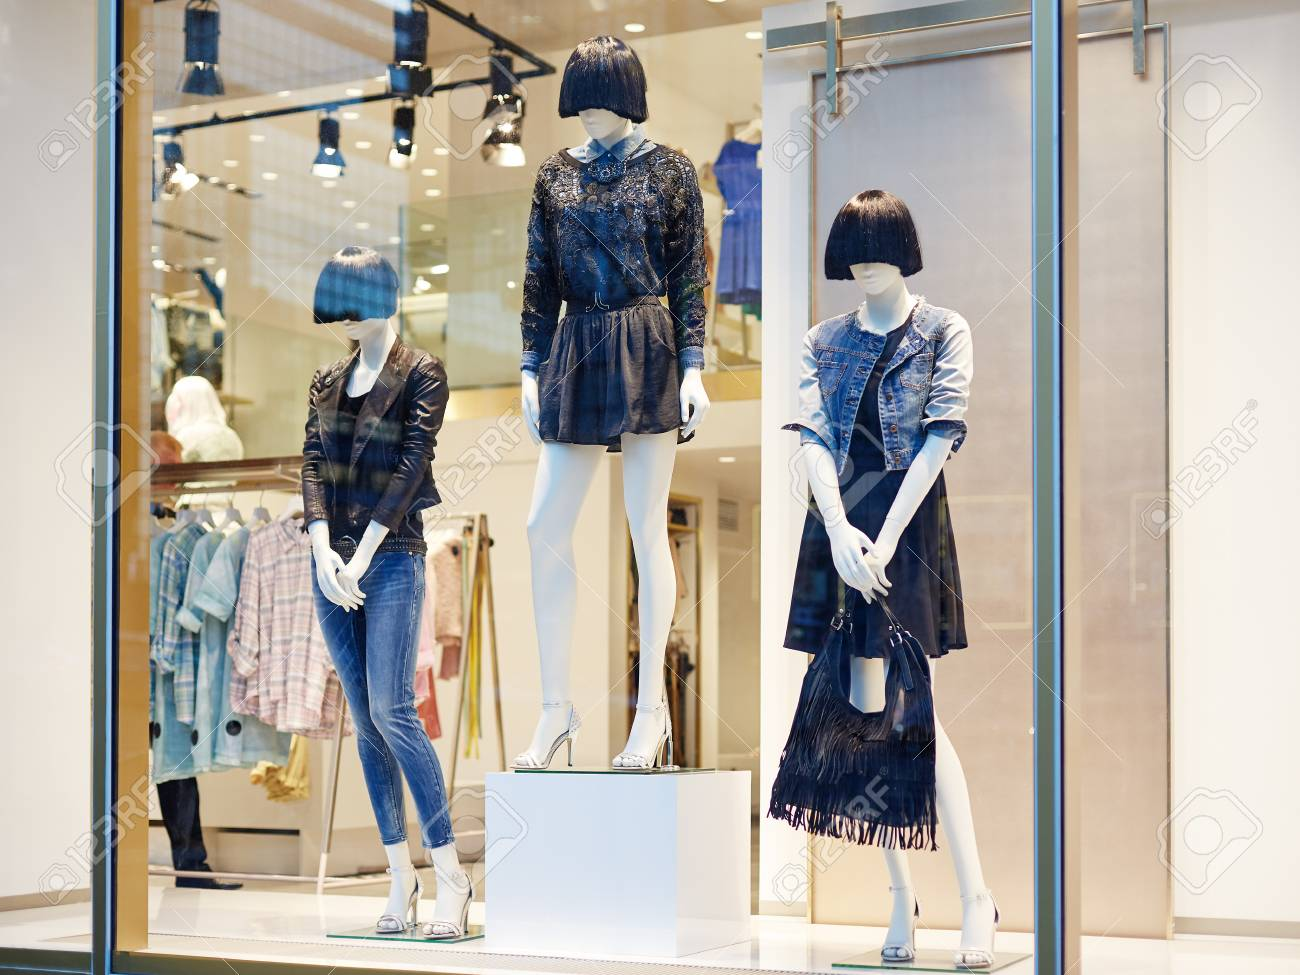person-like: (763, 182, 1016, 974), (508, 24, 716, 790), (291, 233, 482, 946)
